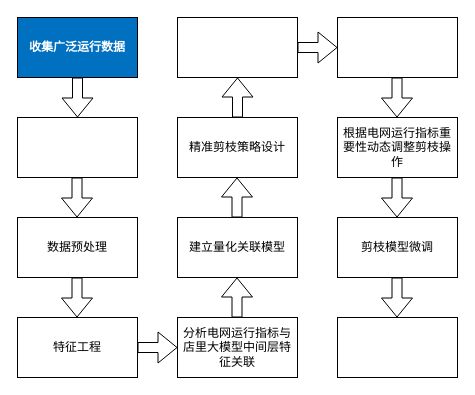
Image size: 475x395. Some labels were removed from this diagram. Here are the shapes that lost their labels. From the top down, the centre of each, then its label:
At (x=237, y=47): "对模型各层次和结构进行评估".
At (x=397, y=47): "通过权重和梯度评估识别可剪除部分".
At (x=77, y=147): "数据采集与预处理".
At (x=397, y=347): "评估与验证".
